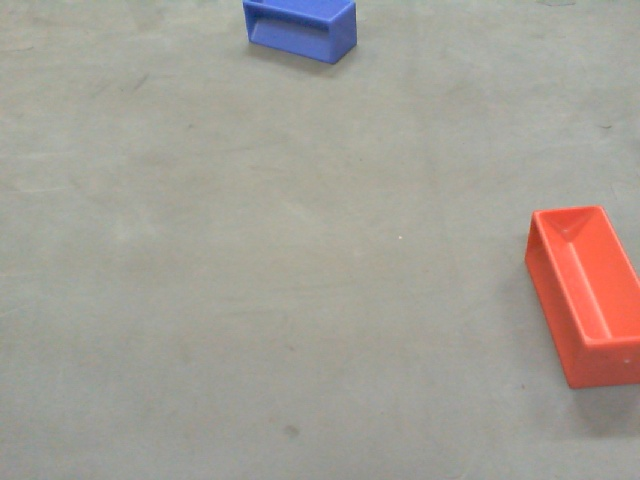BlueSample: (240, 1, 359, 65)
RedSample: (523, 200, 640, 391)
